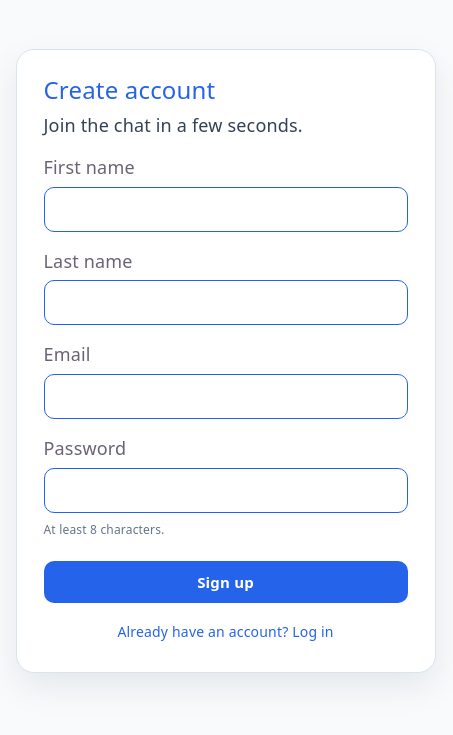
Test: SignupScreen › renders field-level validation messages from a 400
This screenshot has width=453, height=735.
In the field labelled "First name": x=226, y=209 [44,187,408,232], type "New"
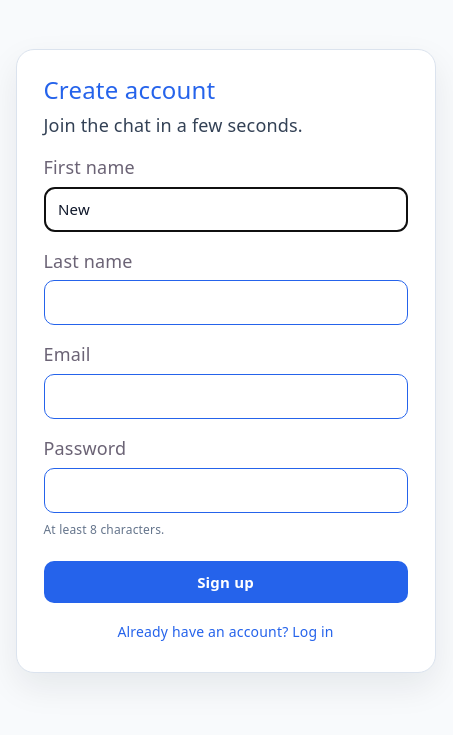
In the field labelled "Last name": x=226, y=303 [44,280,408,325], type "User"
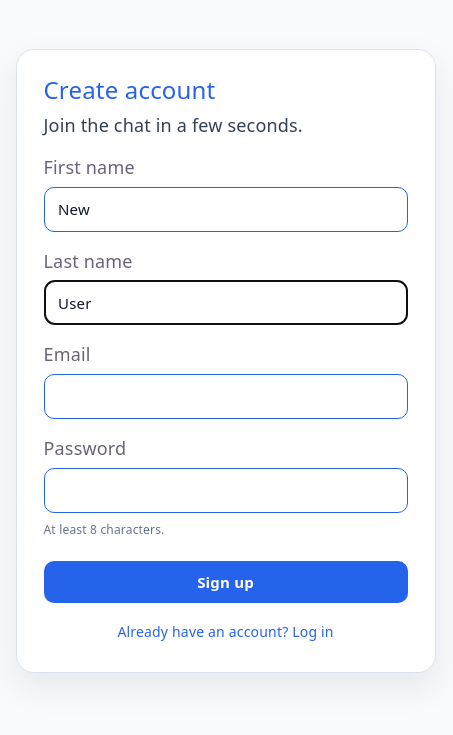
In the field labelled "Email": x=226, y=396 [44,374,408,419], type "new@example.com"
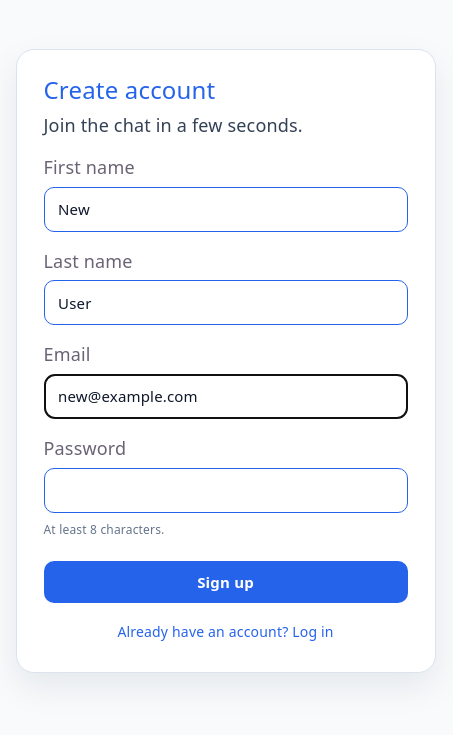
In the password field labelled "Password": x=226, y=490 [44,468,408,513], type "password123"
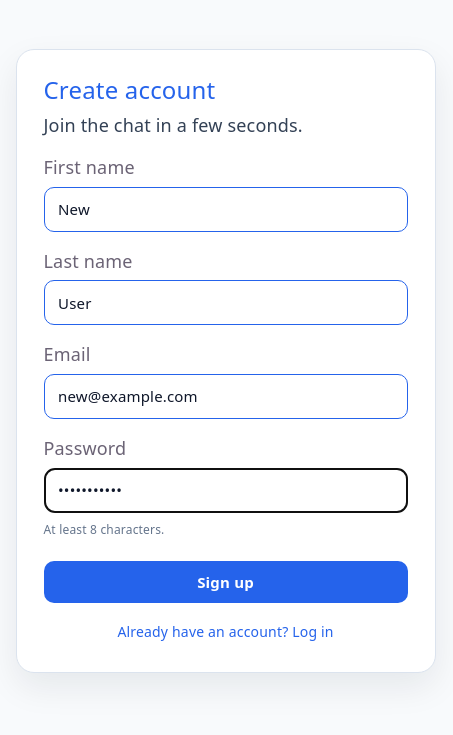
Click the button "Sign up": x=226, y=582 [44,561,408,603]
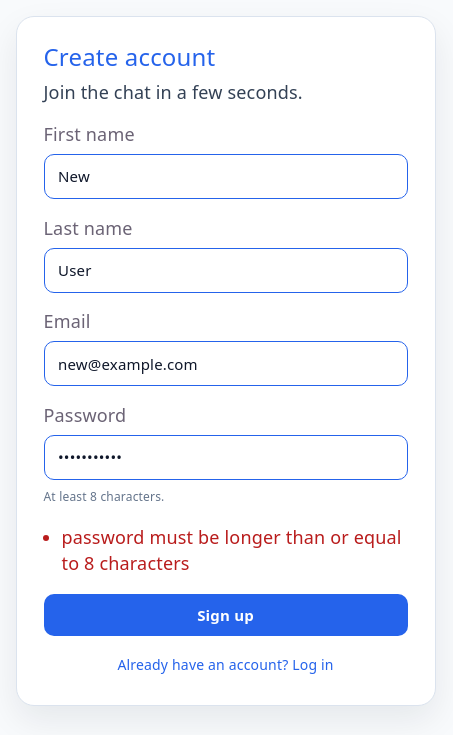
Now the message reads "password must be longer than or equal to 8 characters", box [62,525,402,575]
